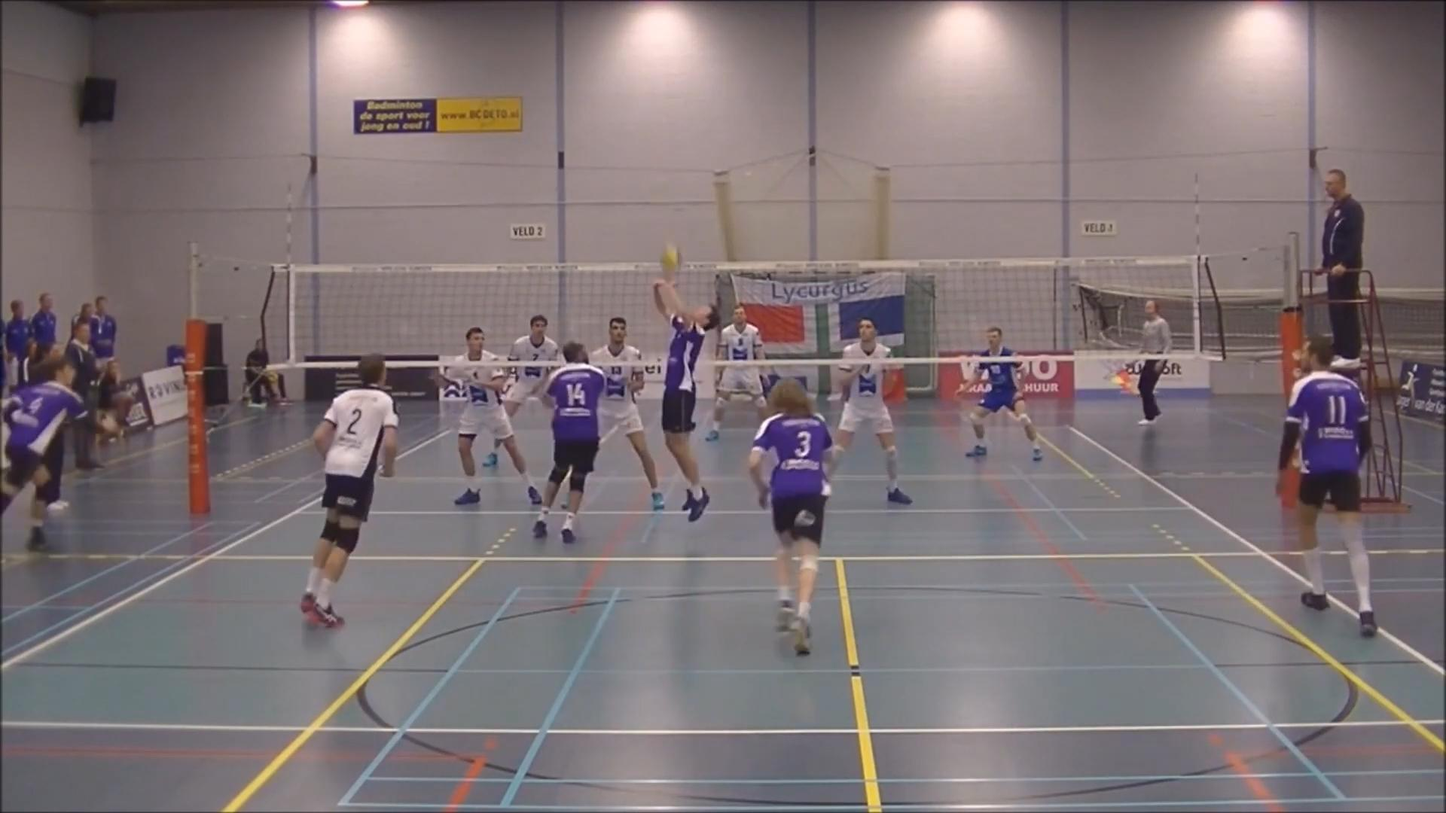alzata: (638, 276, 731, 530)
